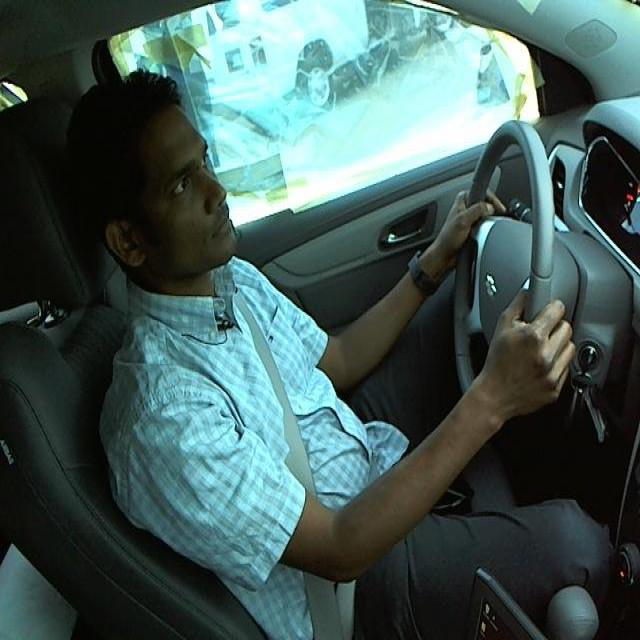seatbelt: (244, 310, 370, 626)
